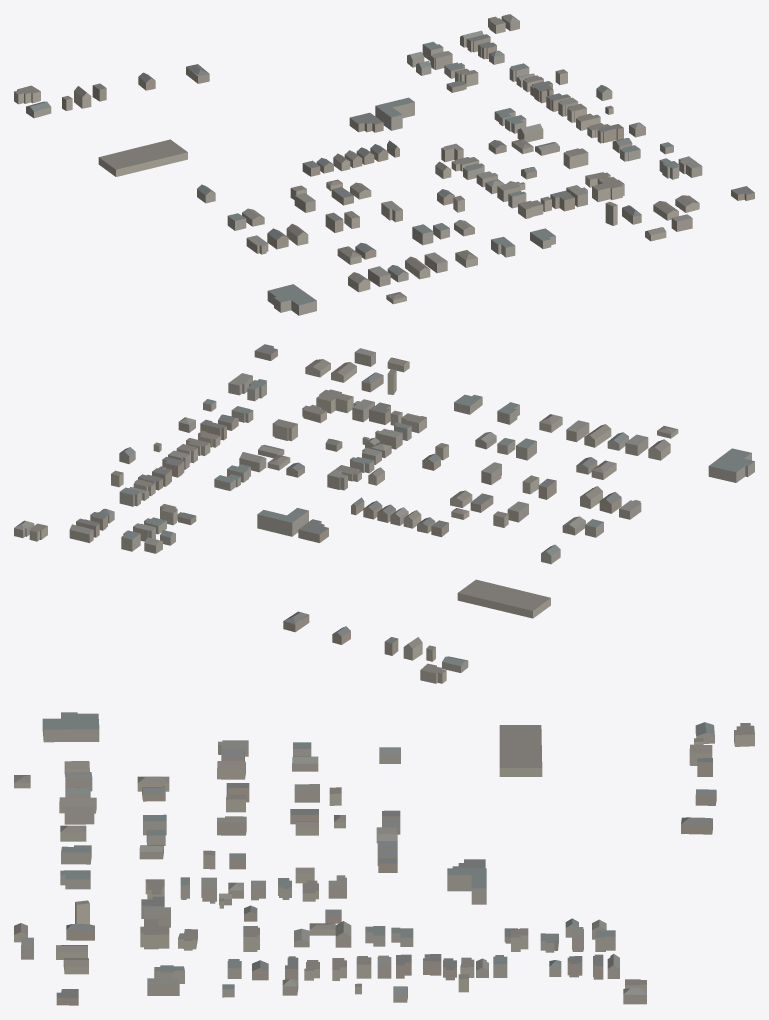
Rendered from e30e6fd9def9-chunk-1193_11843.glb.
3 renders of one model, top to bottom at view 1: azimuth 30°, elevation 25°; view 2: azimuth 150°, elevation 25°; view 3: azimuth 270°, elevation 25°, orthographic. The views are drawn at different scales.
Parts seen in each view (by area): view 1: building_160256, building_19848, building_148076, building_78029, building_86546; view 2: building_160256, building_19848, building_148076, building_78029; view 3: building_160256, building_19848, building_148076, building_78029, building_76018, building_62513, building_50548, building_144641, building_78911, building_88197, building_121527.
Part boxes in pixels (x1=…): building_160256: x1=98, y1=139, x2=187, y2=176; building_19848: x1=267, y1=284, x2=316, y2=315; building_148076: x1=375, y1=97, x2=414, y2=130; building_78029: x1=592, y1=177, x2=624, y2=202; building_86546: x1=349, y1=112, x2=383, y2=132; building_160256: x1=457, y1=579, x2=550, y2=618; building_19848: x1=708, y1=448, x2=754, y2=482; building_148076: x1=257, y1=508, x2=308, y2=536; building_78029: x1=316, y1=389, x2=353, y2=413; building_160256: x1=499, y1=725, x2=542, y2=776; building_19848: x1=42, y1=712, x2=99, y2=742; building_148076: x1=447, y1=868, x2=486, y2=904; building_78029: x1=140, y1=919, x2=169, y2=949; building_76018: x1=147, y1=977, x2=179, y2=995; building_62513: x1=60, y1=870, x2=90, y2=889; building_50548: x1=61, y1=845, x2=91, y2=864; building_144641: x1=217, y1=816, x2=246, y2=835; building_78911: x1=64, y1=806, x2=94, y2=824; building_88197: x1=681, y1=817, x2=712, y2=834; building_121527: x1=217, y1=761, x2=245, y2=779.
Bounding box in the file's own units: 343 × 13.57 × 383.
